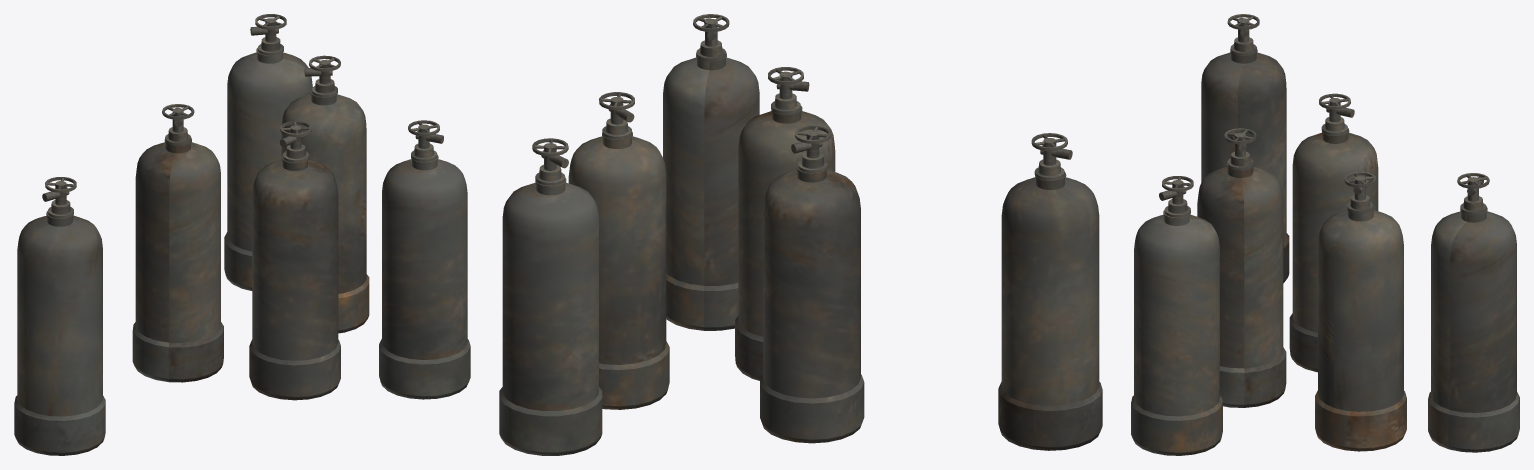
Rendered from prop_medium_004.glb.
3 views of the same model, side by side, from view 1: azimuth 30°, elevation 25°; view 2: azimuth 150°, elevation 25°; view 3: azimuth 270°, elevation 25° (orthographic). The views are drawn at different scales.
Parts seen in each view (by area): view 1: Building_12_023; view 2: Building_12_023; view 3: Building_12_023.
Part boxes in pixels (x1=…): Building_12_023: x1=14, y1=14, x2=470, y2=455; Building_12_023: x1=499, y1=14, x2=1102, y2=455; Building_12_023: x1=1131, y1=14, x2=1519, y2=455.
Bounding box in the file's own units: 1.2 × 0.7126 × 0.9813.
1 material, 1 textured.
